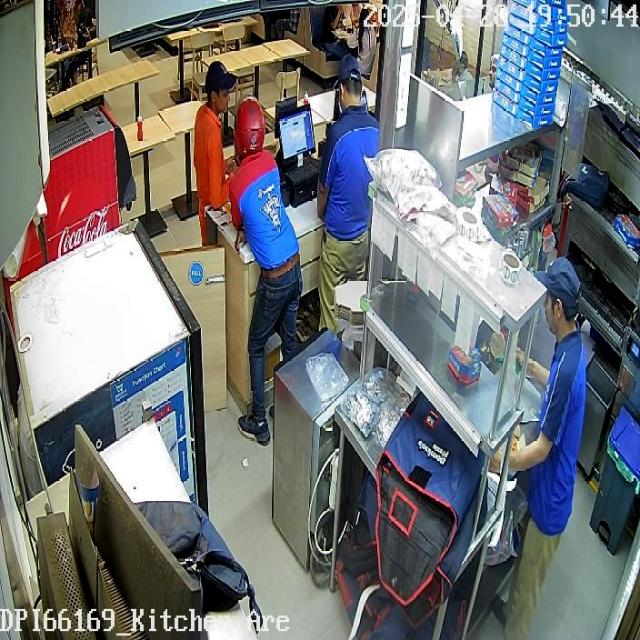helmet: (233, 93, 265, 160)
